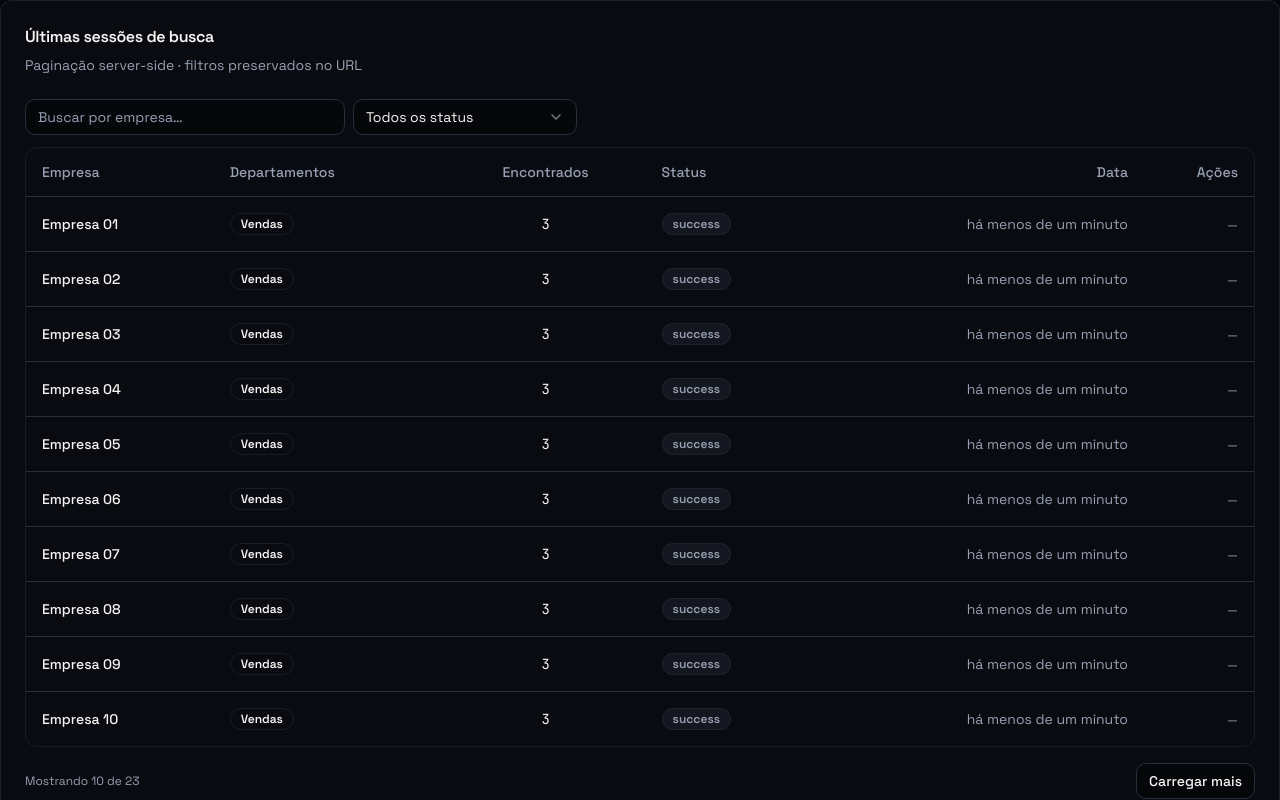
Test: SessionsPanel (R36 server-side) › mudar filtro reseta o carregamento incremental para PAGE_SIZE
This screenshot has width=1280, height=800.
Click the button with aria-label "Carregar mais sessões" at (1196, 780), box [1136,762,1255,798]
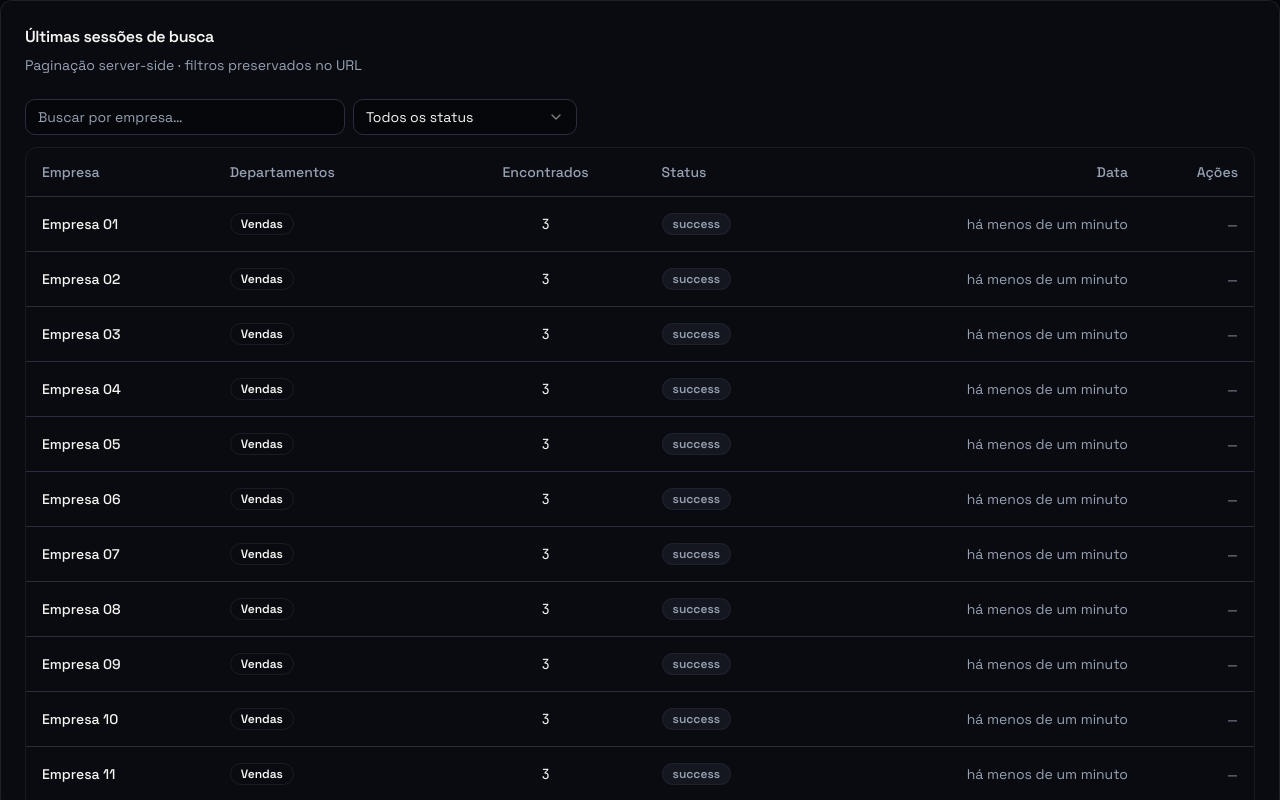
Type "Empresa" into the field named "Buscar sessão por empresa" at (185, 117), box [25,99,345,135]
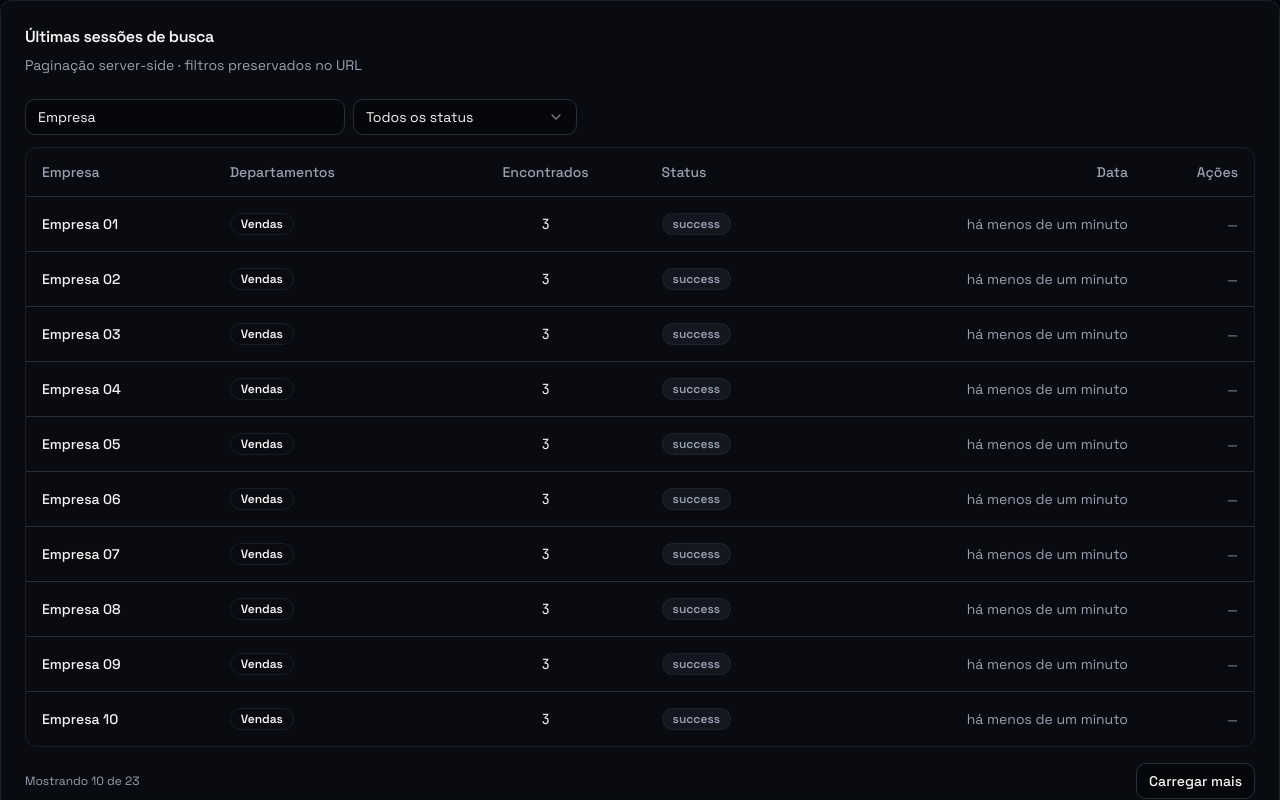
Expected: the text "Mostrando 10 de 23" is shown, [25,772,140,788]
